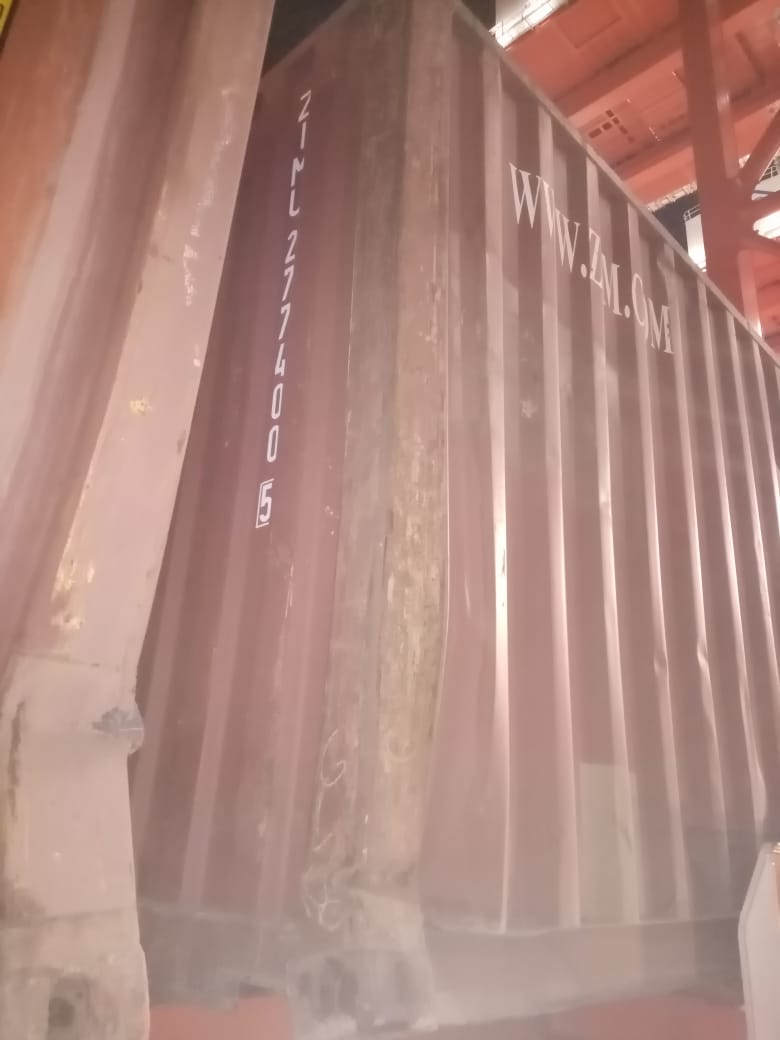dented: (307, 786, 460, 988)
